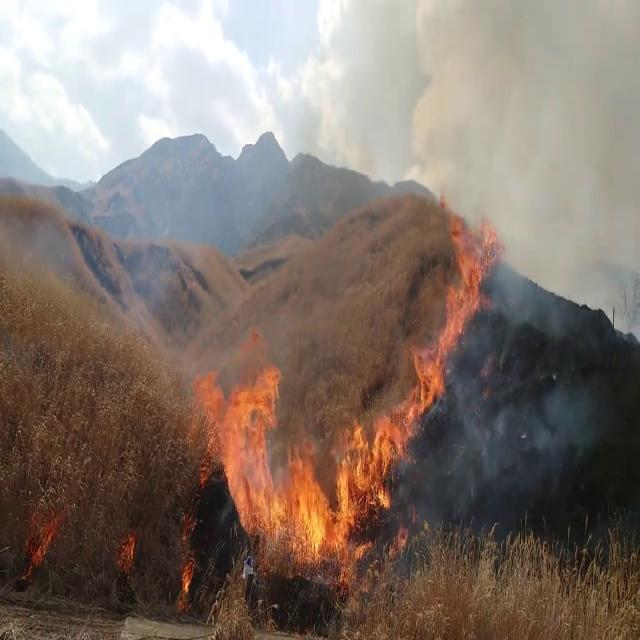Fire: (191, 342, 413, 572), (406, 208, 494, 412)
Smoke: (399, 343, 607, 476)
